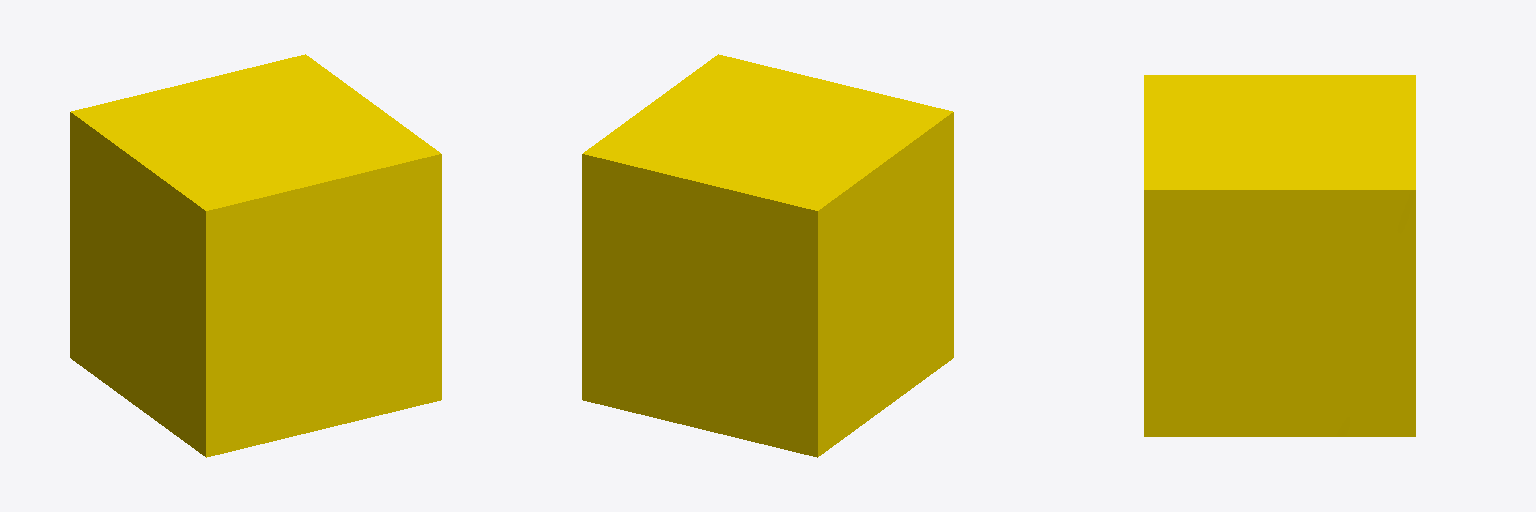
The picture shows the model from 3 angles: view 1: azimuth 30°, elevation 25°; view 2: azimuth 150°, elevation 25°; view 3: azimuth 270°, elevation 25°; orthographic projection.
Visible parts, largest first — view 1: Cube; view 2: Cube; view 3: Cube.
Part boxes in pixels (x1,y1,x2,y2): Cube: (70,54,441,457); Cube: (582,54,953,457); Cube: (1144,75,1415,436).
Bounding box in the file's own units: 2 × 2 × 2.
1 materials, 1 textured.